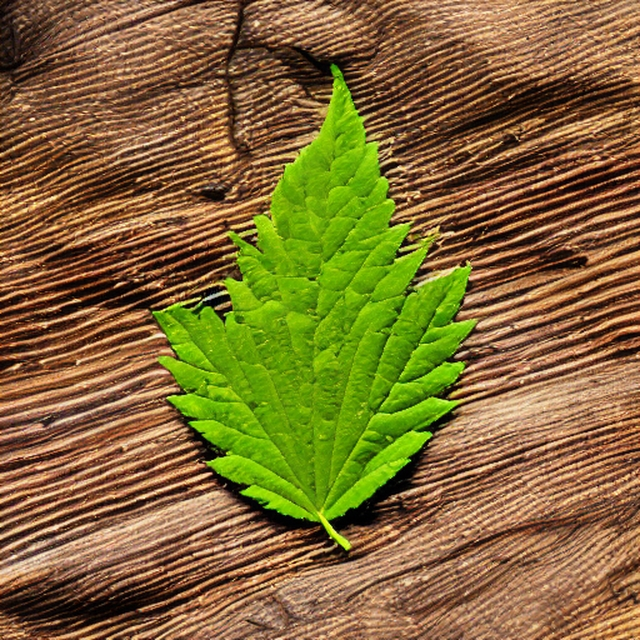Marijuana Leaf: (150, 61, 479, 552)
